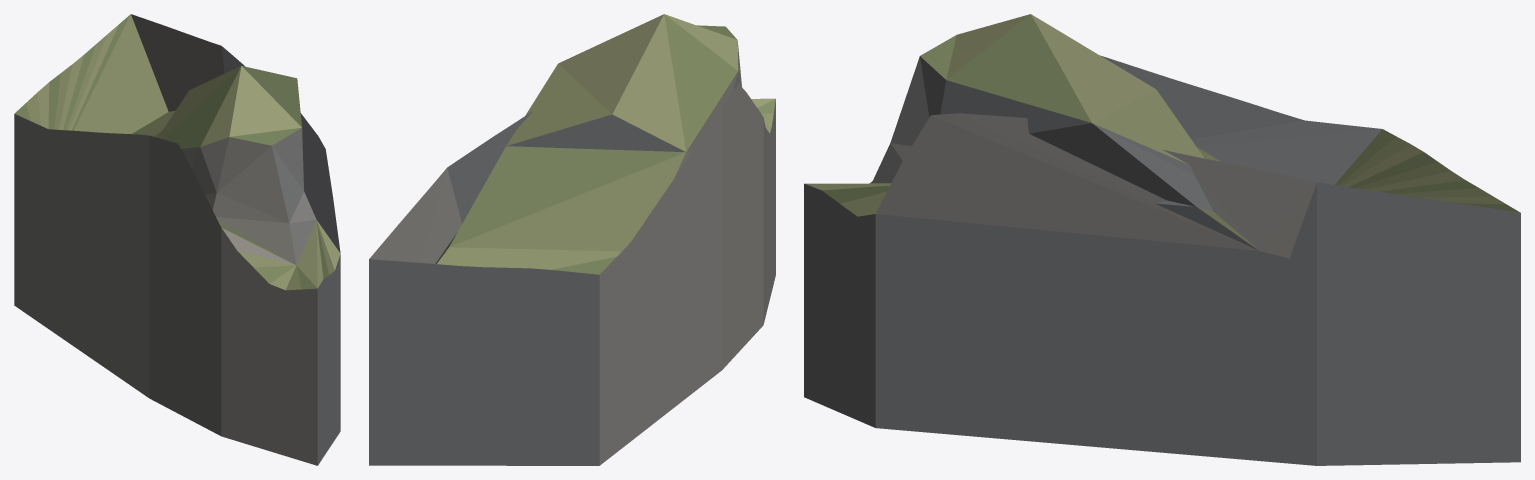
File: cliff_western_slab.glb
3 views of the same model, side by side, from view 1: azimuth 30°, elevation 25°; view 2: azimuth 150°, elevation 25°; view 3: azimuth 270°, elevation 25° (orthographic). The views are drawn at different scales.
Visible parts, largest first — view 1: cliff_western_slab; view 2: cliff_western_slab; view 3: cliff_western_slab.
Part boxes in pixels (<box>): cliff_western_slab: <box>14,14,340,465</box>; cliff_western_slab: <box>369,14,775,465</box>; cliff_western_slab: <box>804,14,1520,465</box>.
Size of the model in its own units: 44.4 by 77 by 127.
